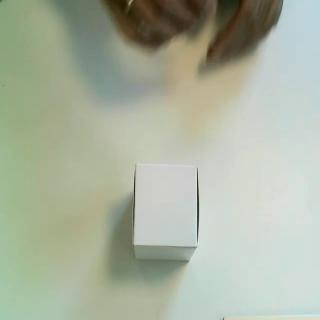apodorm5mg: (131, 161, 200, 263)
